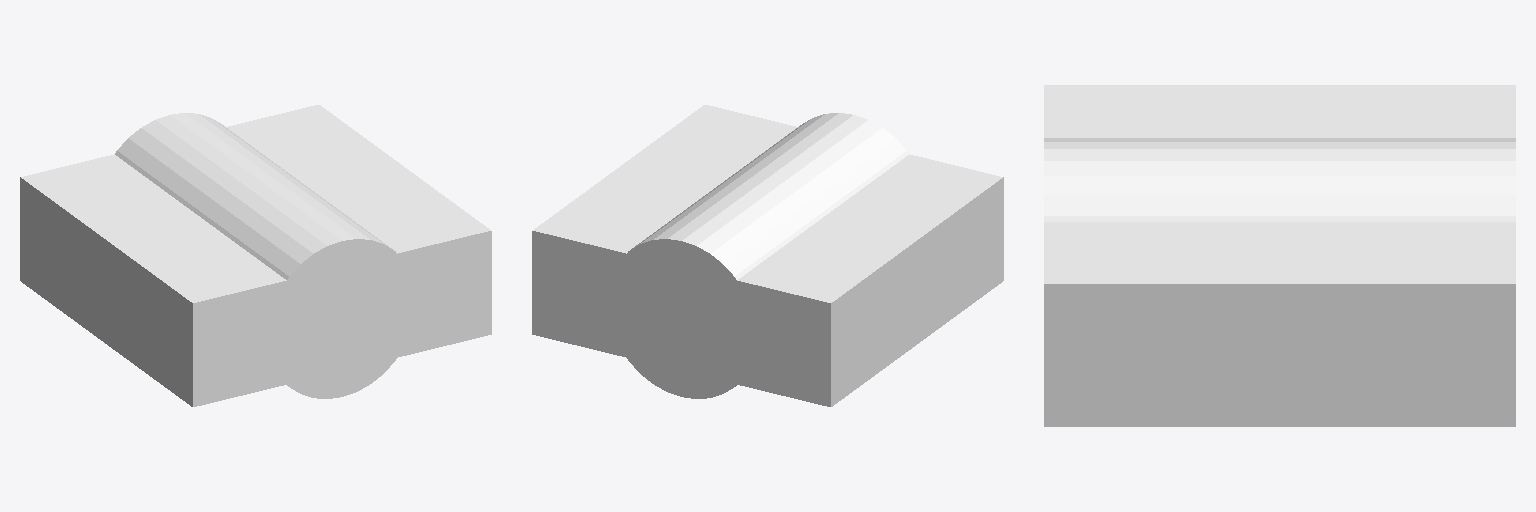
The robot description file, URDF, robot "mirs":
<?xml version="1.0"?><!--
=================================================================================== --><!-- |    This document was autogenerated by xacro from
[local-path]\Mechanical\projects\Major_Project\software\MIRS\mirs\src\mirs_description\src\description\robot.urdf
| --><!-- |    EDITING THIS FILE BY HAND IS NOT RECOMMENDED                                 | --><!--
=================================================================================== -->
<robot name="mirs">
    <material name="silver">
        <color rgba="0.700 0.700 0.700 1.000" />
    </material>
    <material name="white">
        <color rgba="1.0 1.0 1.0 1.000" />
    </material>
    <link name="world" />
    <joint name="base_joint" type="fixed">
        <origin rpy="0 0 0" xyz="0 0 0" />
        <parent link="world" />
        <child link="base_link" />
    </joint>
    <link name="base_link">
        <inertial>
            <origin rpy="0 0 0"
                xyz="0.00011256906932755121 1.4557633150903527e-06 0.05611303672311459" />
            <mass value="0.7607953823190714" />
            <inertia ixx="0.00209" ixy="-0.0" ixz="3e-06" iyy="0.002086" iyz="0.0" izz="0.001141" />
        </inertial>
        <visual>
            <origin rpy="0 0 0" xyz="0 0 0" />
            <geometry>
                <mesh
                    filename="file://[local-path]\Mechanical\projects\Major_Project\software\MIRS\mirs\install\mirs_description\share\mirs_description/src/meshes/base_link.stl"
                    scale="0.001 0.001 0.001" />
            </geometry>
            <material name="silver" />
        </visual>
        <collision>
            <origin rpy="0 0 0" xyz="0 0 0" />
            <geometry>
                <mesh
                    filename="file://[local-path]\Mechanical\projects\Major_Project\software\MIRS\mirs\install\mirs_description\share\mirs_description/src/meshes/base_link.stl"
                    scale="0.001 0.001 0.001" />
            </geometry>
        </collision>
    </link>
    <link name="Link_1">
        <inertial>
            <origin rpy="0 0 0"
                xyz="-2.1807382865401803e-05 -0.008667116088846339 0.11122411445111006" />
            <mass value="0.36362432790840243" />
            <inertia ixx="0.000817" ixy="-0.0" ixz="-0.0" iyy="0.000637" iyz="8.7e-05"
                izz="0.000388" />
        </inertial>
        <visual>
            <origin rpy="0 0 0" xyz="0.0 0.0 -0.081" />
            <geometry>
                <mesh
                    filename="file://[local-path]\Mechanical\projects\Major_Project\software\MIRS\mirs\install\mirs_description\share\mirs_description/src/meshes/Link_1.stl"
                    scale="0.001 0.001 0.001" />
            </geometry>
            <material name="silver" />
        </visual>
        <collision>
            <origin rpy="0 0 0" xyz="0.0 0.0 -0.081" />
            <geometry>
                <mesh
                    filename="file://[local-path]\Mechanical\projects\Major_Project\software\MIRS\mirs\install\mirs_description\share\mirs_description/src/meshes/Link_1.stl"
                    scale="0.001 0.001 0.001" />
            </geometry>
        </collision>
    </link>
    <link name="Link_2">
        <inertial>
            <origin rpy="0 0 0" xyz="0.10282542590700654 -0.0491995322220847 3.6036445404369344e-05" />
            <mass value="0.30215567277549366" />
            <inertia ixx="0.000237" ixy="1.7e-05" ixz="1e-06" iyy="0.002441" iyz="-0.0"
                izz="0.002532" />
        </inertial>
        <visual>
            <origin rpy="0 0 0" xyz="0.0 0.032 -0.22" />
            <geometry>
                <mesh
                    filename="file://[local-path]\Mechanical\projects\Major_Project\software\MIRS\mirs\install\mirs_description\share\mirs_description/src/meshes/Link_2.stl"
                    scale="0.001 0.001 0.001" />
            </geometry>
            <material name="silver" />
        </visual>
        <collision>
            <origin rpy="0 0 0" xyz="0.0 0.032 -0.22" />
            <geometry>
                <mesh
                    filename="file://[local-path]\Mechanical\projects\Major_Project\software\MIRS\mirs\install\mirs_description\share\mirs_description/src/meshes/Link_2.stl"
                    scale="0.001 0.001 0.001" />
            </geometry>
        </collision>
    </link>
    <link name="Link_3">
        <inertial>
            <origin rpy="0 0 0" xyz="0.025228490126899233 0.07440941817736788 -6.26490712335448e-07" />
            <mass value="0.20695376157208248" />
            <inertia ixx="0.000152" ixy="-5.5e-05" ixz="-0.0" iyy="0.000259" iyz="-0.0"
                izz="0.000337" />
        </inertial>
        <visual>
            <origin rpy="0 0 0" xyz="-0.2 0.06762 -0.22" />
            <geometry>
                <mesh
                    filename="file://[local-path]\Mechanical\projects\Major_Project\software\MIRS\mirs\install\mirs_description\share\mirs_description/src/meshes/Link_3.stl"
                    scale="0.001 0.001 0.001" />
            </geometry>
            <material name="silver" />
        </visual>
        <collision>
            <origin rpy="0 0 0" xyz="-0.2 0.06762 -0.22" />
            <geometry>
                <mesh
                    filename="file://[local-path]\Mechanical\projects\Major_Project\software\MIRS\mirs\install\mirs_description\share\mirs_description/src/meshes/Link_3.stl"
                    scale="0.001 0.001 0.001" />
            </geometry>
        </collision>
    </link>
    <link name="Link_4">
        <inertial>
            <origin rpy="0 0 0"
                xyz="0.08541335998023963 0.00029506558546724126 0.0016735155042013894" />
            <mass value="0.1600809938002471" />
            <inertia ixx="8.4e-05" ixy="0.0" ixz="-6e-06" iyy="0.000201" iyz="-1e-06" izz="0.000184" />
        </inertial>
        <visual>
            <origin rpy="0 0 0" xyz="-0.2309 -0.01749 -0.22" />
            <geometry>
                <mesh
                    filename="file://[local-path]\Mechanical\projects\Major_Project\software\MIRS\mirs\install\mirs_description\share\mirs_description/src/meshes/Link_4.stl"
                    scale="0.001 0.001 0.001" />
            </geometry>
            <material name="silver" />
        </visual>
        <collision>
            <origin rpy="0 0 0" xyz="-0.2309 -0.01749 -0.22" />
            <geometry>
                <mesh
                    filename="file://[local-path]\Mechanical\projects\Major_Project\software\MIRS\mirs\install\mirs_description\share\mirs_description/src/meshes/Link_4.stl"
                    scale="0.001 0.001 0.001" />
            </geometry>
        </collision>
    </link>
    <link name="Link_5">
        <inertial>
            <origin rpy="0 0 0"
                xyz="0.015538378608286496 -0.002257603554561633 -0.01931206242474498" />
            <mass value="0.10191756419918696" />
            <inertia ixx="3.2e-05" ixy="4e-06" ixz="0.0" iyy="6.2e-05" iyz="-0.0" izz="7.3e-05" />
        </inertial>
        <visual>
            <origin rpy="0 0 0" xyz="-0.35625 -0.01749 -0.2395" />
            <geometry>
                <mesh
                    filename="file://[local-path]\Mechanical\projects\Major_Project\software\MIRS\mirs\install\mirs_description\share\mirs_description/src/meshes/Link_5.stl"
                    scale="0.001 0.001 0.001" />
            </geometry>
            <material name="silver" />
        </visual>
        <collision>
            <origin rpy="0 0 0" xyz="-0.35625 -0.01749 -0.2395" />
            <geometry>
                <mesh
                    filename="file://[local-path]\Mechanical\projects\Major_Project\software\MIRS\mirs\install\mirs_description\share\mirs_description/src/meshes/Link_5.stl"
                    scale="0.001 0.001 0.001" />
            </geometry>
        </collision>
    </link>
    <joint name="joint_1" type="continuous">
        <origin rpy="0 0 0" xyz="0.0 0.0 0.081" />
        <parent link="base_link" />
        <child link="Link_1" />
        <axis xyz="-0.0 -0.0 1.0" />
        <dynamics damping="4" friction="4" />
    </joint>
    <joint name="joint_2" type="revolute">
        <origin rpy="0 0 0" xyz="0.0 -0.032 0.139" />
        <parent link="Link_1" />
        <child link="Link_2" />
        <axis xyz="-0.0 -1.0 0.0" />
        <limit effort="100" lower="-0.785398" upper="2.356194" velocity="100" />
        <dynamics damping="4" friction="4" />
    </joint>
    <joint name="joint_3" type="revolute">
        <origin rpy="0 0 0" xyz="0.2 -0.03562 0.0" />
        <parent link="Link_2" />
        <child link="Link_3" />
        <axis xyz="-0.0 -1.0 0.0" />
        <limit effort="100" lower="-1.570796" upper="1.570796" velocity="100" />
        <dynamics damping="4" friction="4" />
    </joint>
    <joint name="joint_4" type="revolute">
        <origin rpy="0 0 0" xyz="0.0309 0.08511 0.0" />
        <parent link="Link_3" />
        <child link="Link_4" />
        <axis xyz="1.0 -0.0 -0.0" />
        <limit effort="100" lower="-1.570796" upper="1.570796" velocity="100" />
        <dynamics damping="4" friction="4" />
    </joint>
    <joint name="joint_5" type="revolute">
        <origin rpy="0 0 0" xyz="0.12535 0.0 0.0195" />
        <parent link="Link_4" />
        <child link="Link_5" />
        <axis xyz="0.0 0.0 1.0" />
        <limit effort="100" lower="-0.785398" upper="0.785398" velocity="100" />
        <dynamics damping="4" friction="4" />
    </joint>
    <joint name="camera_joint" type="fixed">
        <origin rpy="0 1.5707963267948966 0" xyz="0 0 0.60" />
        <parent link="world" />
        <child link="camera_link" />
    </joint>
    <link name="camera_link">
        <visual>
            <origin rpy="1.5707963267948966 0 0" xyz="0 0 0" />
            <geometry>
                <box size="0.02 0.06 0.06" />
            </geometry>
            <material name="white" />
        </visual>
        <visual>
            <origin rpy="1.5707963267948966 0 0" xyz="0 0 0" />
            <geometry>
                <cylinder length="0.06" radius="0.015" />
            </geometry>
            <material name="white" />
        </visual>
        <collision>
            <origin rpy="0 0 0" xyz="0 0 0.40" />
            <geometry>
                <box size="0.06 0.15 0.15" />
            </geometry>
        </collision>
        <inertial>
            <origin rpy="0 0 0" xyz="0 0 0.40" />
            <mass value="0.5" />
            <inertia ixx="0.001875" ixy="0.0" ixz="0.0" iyy="0.0010875" iyz="0.0" izz="0.0010875" />
        </inertial>
    </link>
</robot>

--- Render facts (derived) ---
Views: 3 orthographic renders of the robot side by side, from view 1: azimuth 30°, elevation 25°; view 2: azimuth 150°, elevation 25°; view 3: azimuth 270°, elevation 25°.
Robot: mirs — 8 links, 7 joints (4 revolute, 1 continuous, 2 fixed); root link world; default pose: every joint at zero.
Links seen in each view (by area): view 1: camera_link; view 2: camera_link; view 3: camera_link.
Link boxes in pixels (<box>): camera_link: <box>20,105,491,406</box>; camera_link: <box>532,105,1003,406</box>; camera_link: <box>1044,85,1515,426</box>.
Bounding box of the posed robot: 0.06 × 0.06 × 0.03 m (x, y, z).
Geometry: only primitive shapes (box / cylinder / sphere) drawn; not drawn: 6 mesh visuals (reference in a form the renderer does not follow).